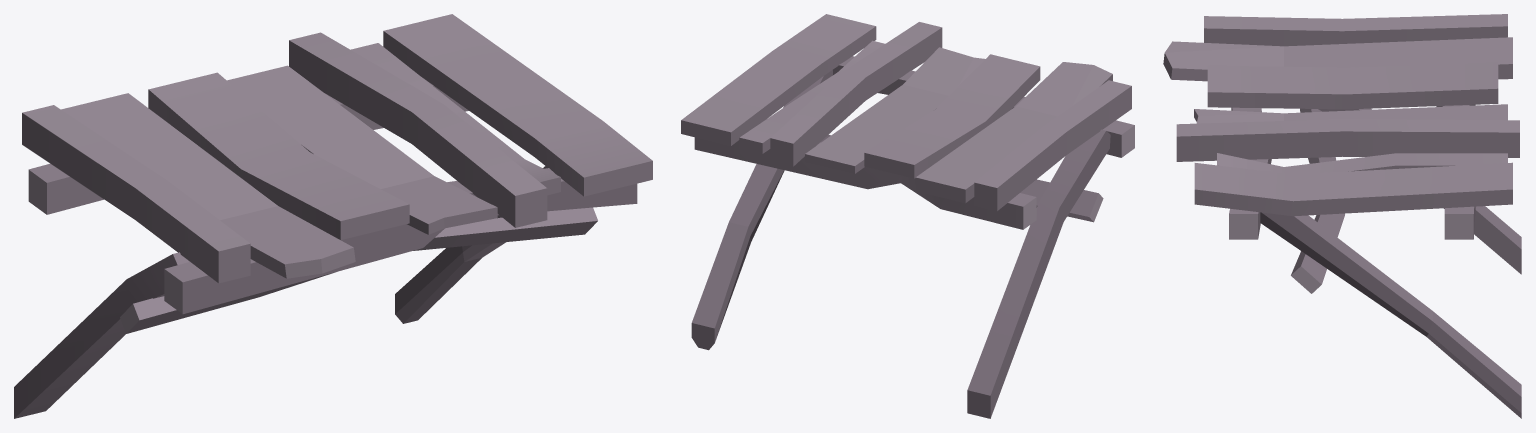
Rendered from SM_Prop_Window_Top_01.fbx.
The picture shows the model from 3 angles, left to right: view 1: azimuth 30°, elevation 25°; view 2: azimuth 150°, elevation 25°; view 3: azimuth 270°, elevation 25°; orthographic projection. The views are drawn at different scales.
Parts seen in each view (by area): view 1: SM_Prop_Window_Top_01; view 2: SM_Prop_Window_Top_01; view 3: SM_Prop_Window_Top_01.
Part boxes in pixels (x1,y1,x2,y2): SM_Prop_Window_Top_01: (14,14,652,418); SM_Prop_Window_Top_01: (681,14,1134,418); SM_Prop_Window_Top_01: (1163,14,1521,418).
Bounding box in the file's own units: 0.0191 × 0.0127 × 0.0162.
